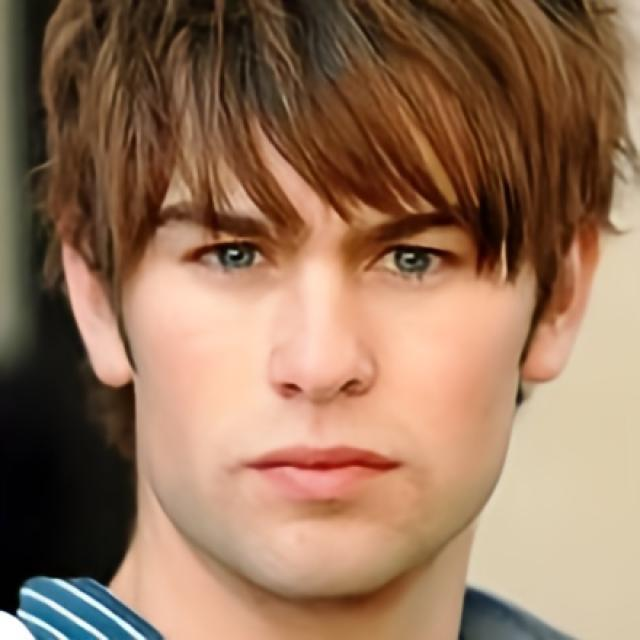anger: (123, 44, 530, 594)
